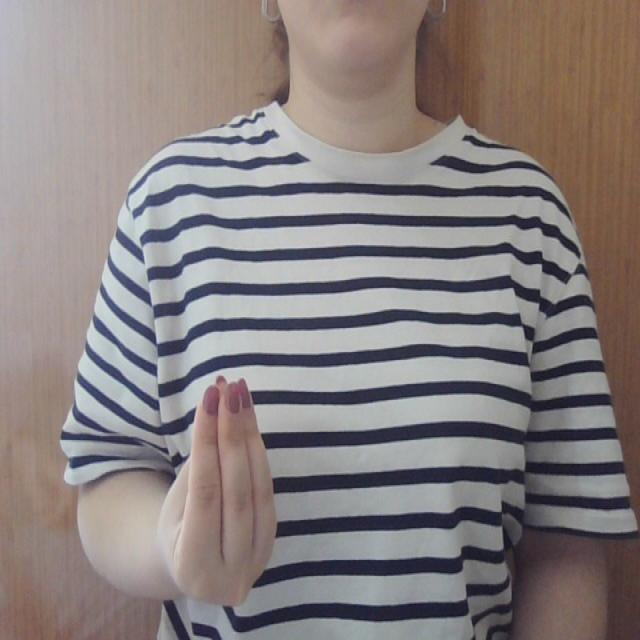iyi: (160, 364, 278, 608)
